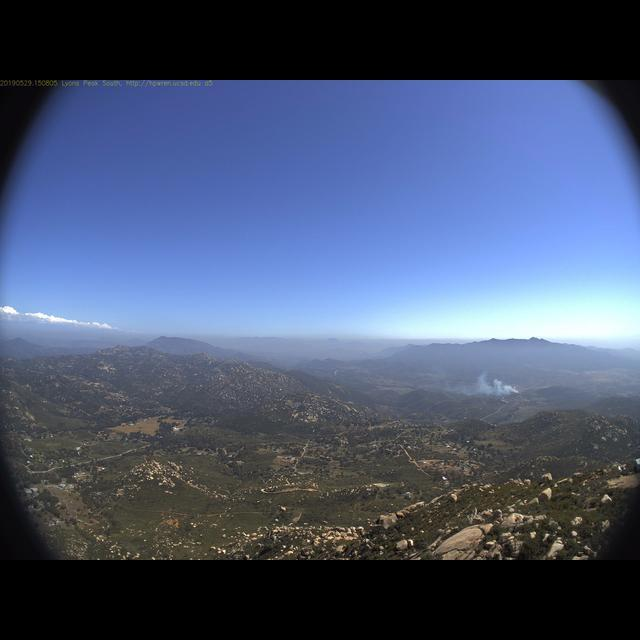Smoke: (442, 368, 522, 399)
